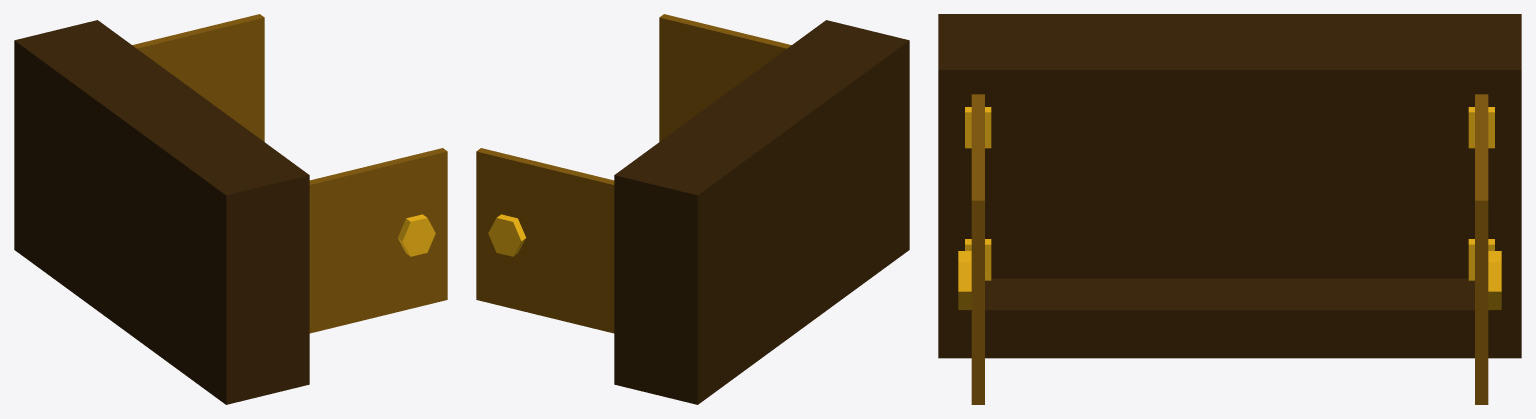
Rendered from obj_open_cupboard_2_0.obj.
The picture shows the model from 3 angles, left to right: view 1: azimuth 30°, elevation 25°; view 2: azimuth 150°, elevation 25°; view 3: azimuth 270°, elevation 25°; orthographic projection. The views are drawn at different scales.
Size of the model in its own units: 0.875 by 0.75 by 1.38.
